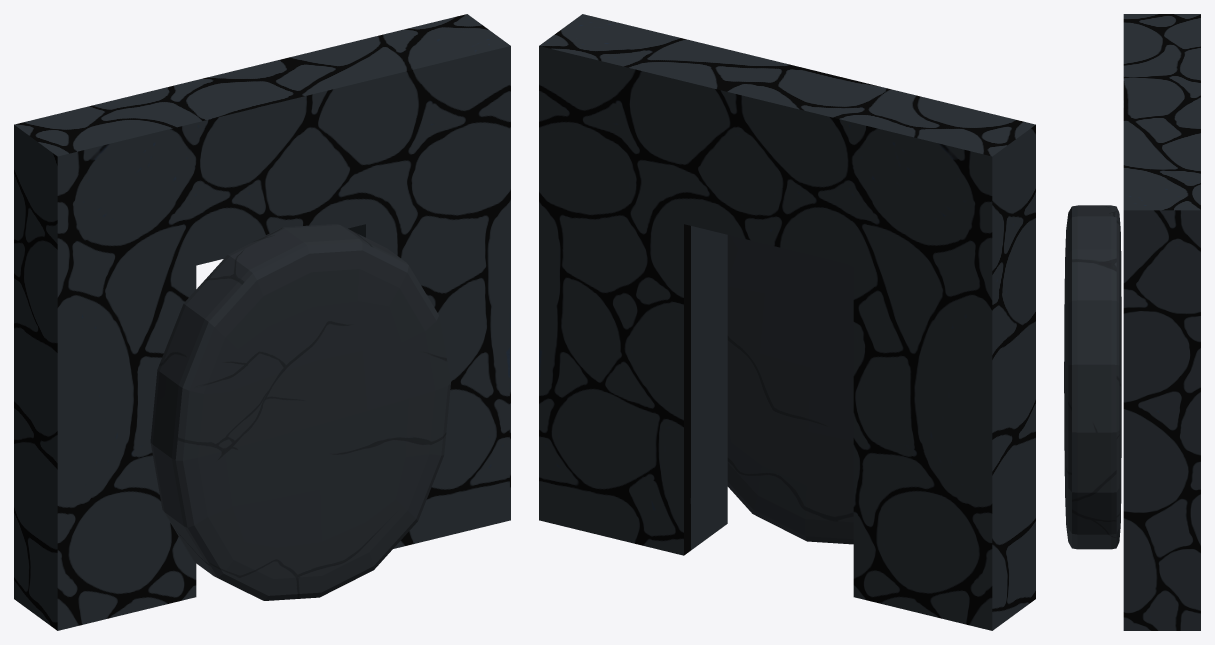
Rendered from DoorBell.fbx.
3 views of the same model, side by side, from view 1: azimuth 30°, elevation 25°; view 2: azimuth 150°, elevation 25°; view 3: azimuth 270°, elevation 25° (orthographic). The views are drawn at different scales.
Visible parts, largest first — view 1: Wall, Door; view 2: Wall, Door; view 3: Wall, Door.
Part boxes in pixels (x1,y1,x2,y2): Wall: [14, 14, 510, 630]; Door: [150, 224, 450, 600]; Wall: [539, 14, 1035, 630]; Door: [727, 235, 853, 544]; Wall: [1123, 14, 1200, 630]; Door: [1064, 205, 1121, 549].
Size of the model in its own units: 300 by 302 by 88.38.
3 materials, 3 textured.
